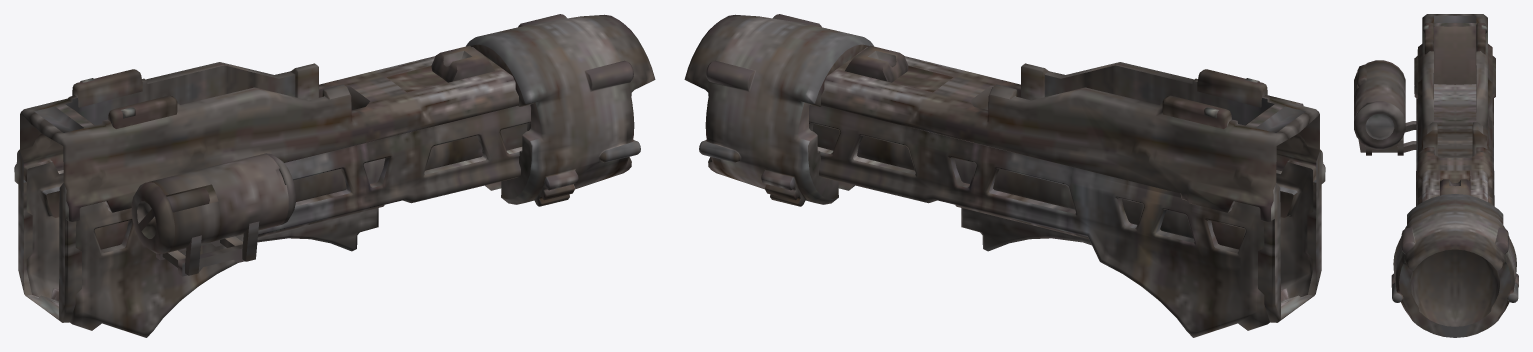
The model's file is HeavyWeapons_Vladof_body.obj.
3 renders of one model, left to right at view 1: azimuth 30°, elevation 25°; view 2: azimuth 150°, elevation 25°; view 3: azimuth 270°, elevation 25°, orthographic. The views are drawn at different scales.
Visible parts, largest first — view 1: Body_chassis_SK_HW_VLA, Body_chassis_front_SK_HW_VLA.001, Body_cannister_chassis_SK_HW_VLA.019, Body_chassis_panel_13_SK_HW_VLA.003, Body_chassis_panel_11_SK_HW_VLA.006, Body_cannister_armature_4_SK_HW_VLA.024, Body_cannister_armature_2_SK_HW_VLA.021, Body_cannister_armature_3_SK_HW_VLA.022, Body_cannister_button_SK_HW_VLA.023, Body_chassis_panel_8_SK_HW_VLA.002, Body_chassis_panel_14_SK_HW_VLA.004; view 2: Body_chassis_SK_HW_VLA, Body_chassis_front_SK_HW_VLA.001, Body_chassis_panel_4_SK_HW_VLA.012, Body_chassis_panel_2_SK_HW_VLA.009, Body_chassis_panel_7_SK_HW_VLA.008, Body_chassis_panel_6_SK_HW_VLA.013, Body_chassis_panel_1_SK_HW_VLA.010; view 3: Body_chassis_front_SK_HW_VLA.001, Body_chassis_SK_HW_VLA, Body_cannister_chassis_SK_HW_VLA.019, Body_cannister_armature_3_SK_HW_VLA.022, Body_cannister_button_SK_HW_VLA.023.
Boxes of the visible parts, <box> form: Body_chassis_SK_HW_VLA: <box>14,45,530,337</box>; Body_chassis_front_SK_HW_VLA.001: <box>466,14,655,206</box>; Body_cannister_chassis_SK_HW_VLA.019: <box>131,153,295,254</box>; Body_chassis_panel_13_SK_HW_VLA.003: <box>425,136,482,170</box>; Body_chassis_panel_11_SK_HW_VLA.006: <box>293,169,346,201</box>; Body_cannister_armature_4_SK_HW_VLA.024: <box>178,244,244,276</box>; Body_cannister_armature_2_SK_HW_VLA.021: <box>162,235,201,275</box>; Body_cannister_armature_3_SK_HW_VLA.022: <box>220,221,259,261</box>; Body_cannister_button_SK_HW_VLA.023: <box>166,188,209,212</box>; Body_chassis_panel_8_SK_HW_VLA.002: <box>94,221,128,249</box>; Body_chassis_panel_14_SK_HW_VLA.004: <box>500,123,527,150</box>; Body_chassis_SK_HW_VLA: <box>809,45,1325,337</box>; Body_chassis_front_SK_HW_VLA.001: <box>684,14,873,206</box>; Body_chassis_panel_4_SK_HW_VLA.012: <box>993,169,1074,209</box>; Body_chassis_panel_2_SK_HW_VLA.009: <box>857,136,914,170</box>; Body_chassis_panel_7_SK_HW_VLA.008: <box>1211,221,1245,249</box>; Body_chassis_panel_6_SK_HW_VLA.013: <box>1160,210,1193,238</box>; Body_chassis_panel_1_SK_HW_VLA.010: <box>812,123,839,150</box>; Body_chassis_front_SK_HW_VLA.001: <box>1391,194,1518,337</box>; Body_chassis_SK_HW_VLA: <box>1414,14,1495,206</box>; Body_cannister_chassis_SK_HW_VLA.019: <box>1354,60,1405,149</box>; Body_cannister_armature_3_SK_HW_VLA.022: <box>1358,139,1416,152</box>; Body_cannister_button_SK_HW_VLA.023: <box>1357,64,1366,86</box>.
Bounding box in the file's own units: 53.94 × 20.26 × 18.52.
